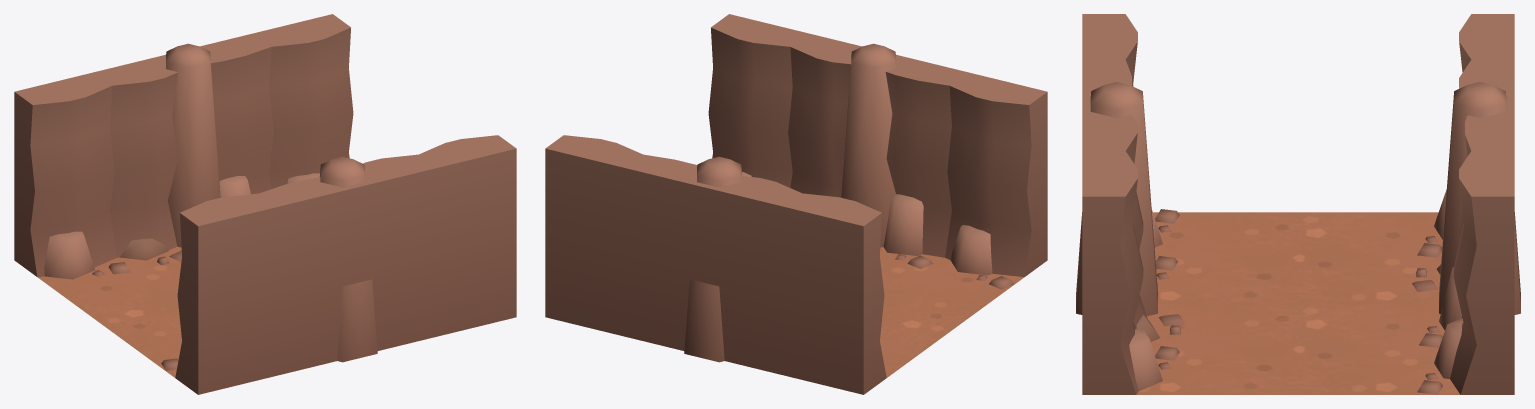
The model's file is corridor-wide.glb.
3 renders of one model, left to right at view 1: azimuth 30°, elevation 25°; view 2: azimuth 150°, elevation 25°; view 3: azimuth 270°, elevation 25°, orthographic. The views are drawn at different scales.
Visible parts, largest first — view 1: corridor-wide; view 2: corridor-wide; view 3: corridor-wide.
Boxes of the visible parts, x1,y1,x2,y2 form: corridor-wide: (14,14,516,394); corridor-wide: (545,14,1047,394); corridor-wide: (1076,14,1520,394).
Bounding box in the file's own units: 8 × 4.4 × 8.23.
1 material, 1 textured.
